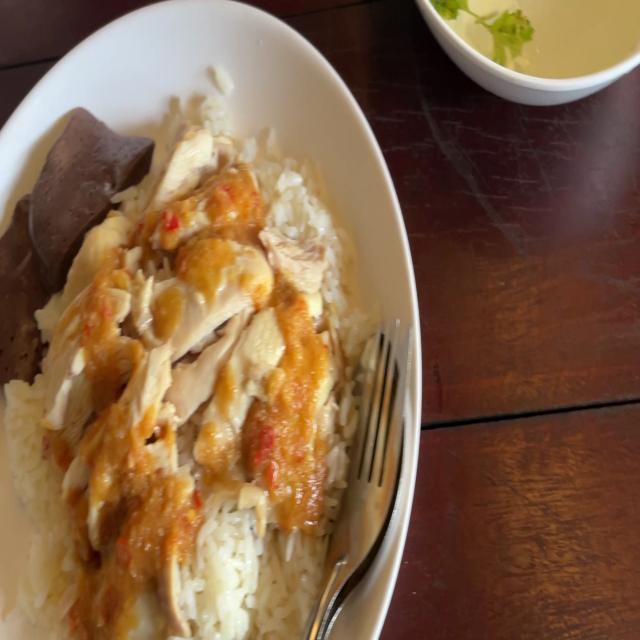boiled_chicken: (52, 153, 291, 560)
boiled_chicken_blood_jelly: (24, 105, 148, 263), (0, 194, 56, 384)
chicken_rice: (0, 67, 363, 640)
